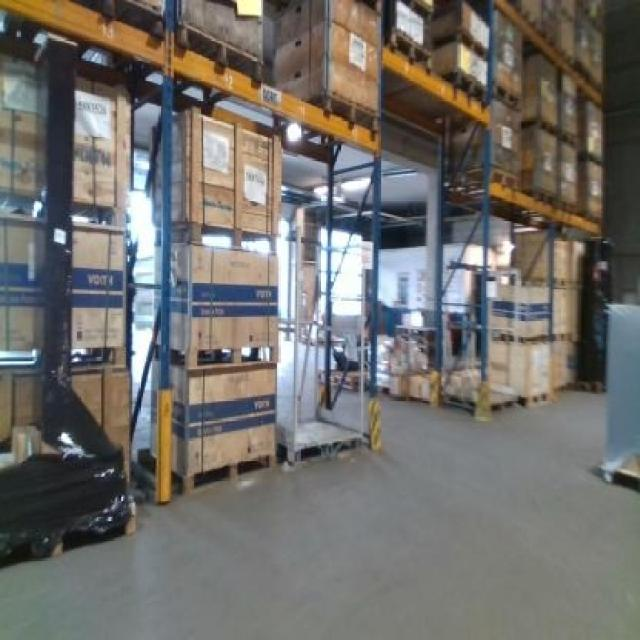floor: (0, 391, 637, 637)
pallets: (169, 108, 278, 486), (598, 303, 637, 488)
